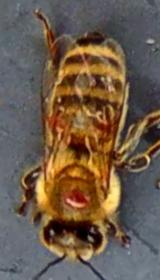varroa_mite: (58, 172, 100, 216), (89, 103, 120, 145), (42, 106, 68, 138)
